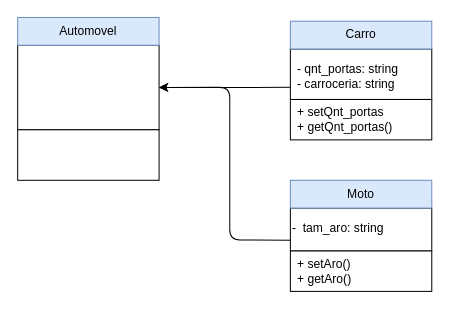
The diagram is 449 pixels wide and 310 high, and some of its shapes have lost their labels. Each missing label, with the centre of its shape:
+ setAuto() + getAuto(): point 88,154
- cor: string - tipo_combust: string - ano: date - valor: float: point 88,87
